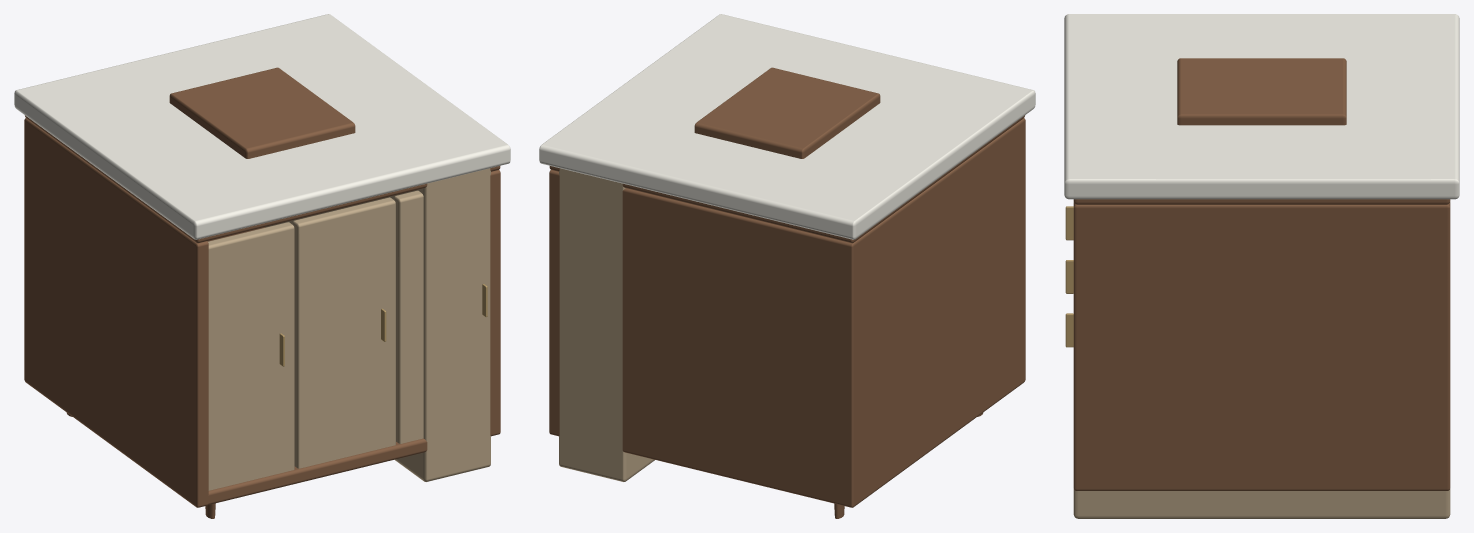
The model's file is cabinet-19-1.glb.
3 renders of one model, left to right at view 1: azimuth 30°, elevation 25°; view 2: azimuth 150°, elevation 25°; view 3: azimuth 270°, elevation 25°, orthographic. The views are drawn at different scales.
Visible parts, largest first — view 1: upholstery (×2), part, worktop; view 2: part, worktop, upholstery; view 3: part, worktop, upholstery (×2).
Part boxes in pixels (<box>): upholstery (×2): <box>208,168,490,490</box>; part: <box>24,67,500,518</box>; worktop: <box>14,14,510,239</box>; part: <box>549,67,1025,518</box>; worktop: <box>539,14,1035,239</box>; upholstery: <box>559,168,654,481</box>; part: <box>1073,58,1450,490</box>; worktop: <box>1064,14,1459,199</box>; upholstery (×2): <box>1065,201,1450,518</box>.
Size of the model in its own units: 1 by 1 by 1.
